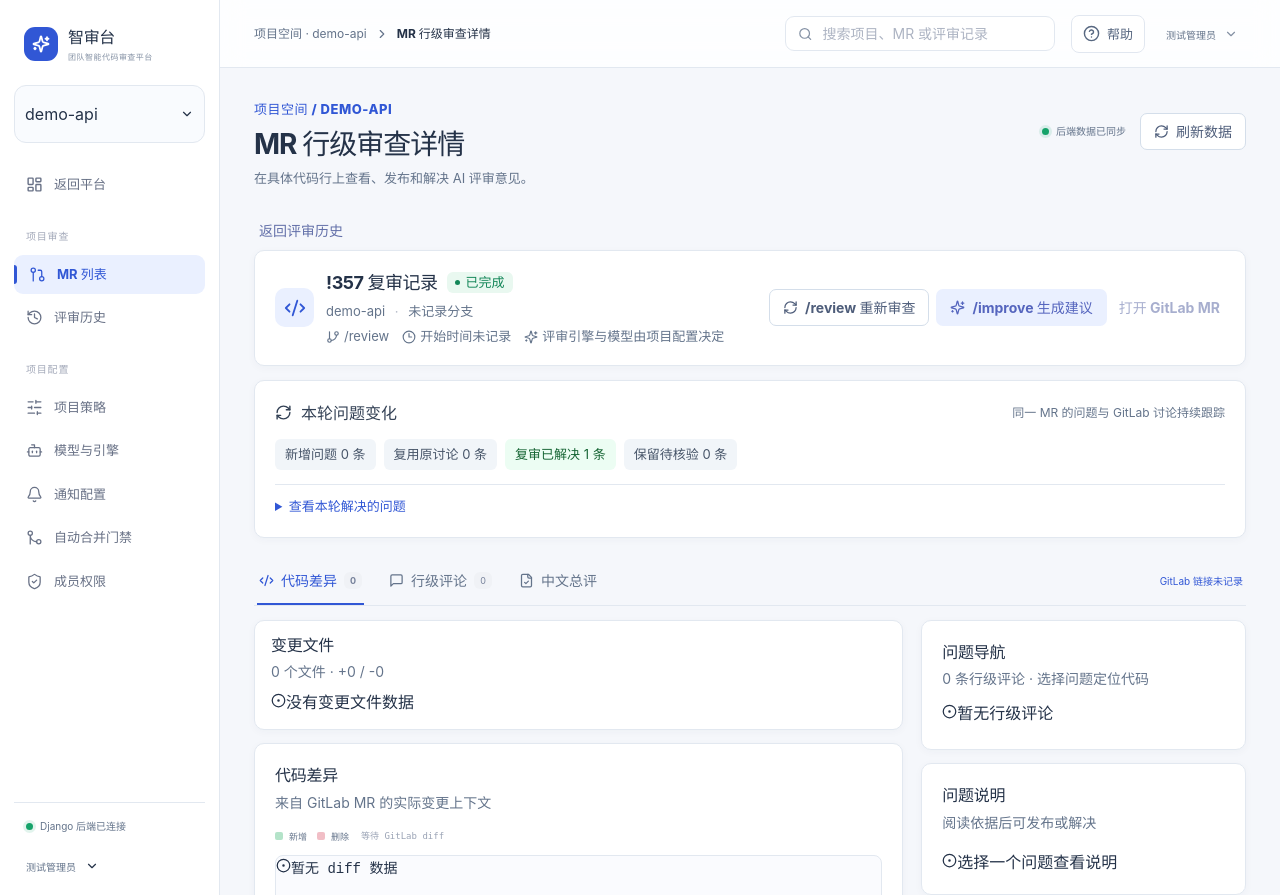
shows server-confirmed resolution and allows opening the resolved issue evidence
The width and height of the screenshot is (1280, 895).
expect the text "复审已解决 1 条" is shown: met, box x1=505 y1=439 x2=616 y2=470
Click the heading "查看本轮解决的问题" at (340, 507), box x1=275 y1=497 x2=406 y2=517
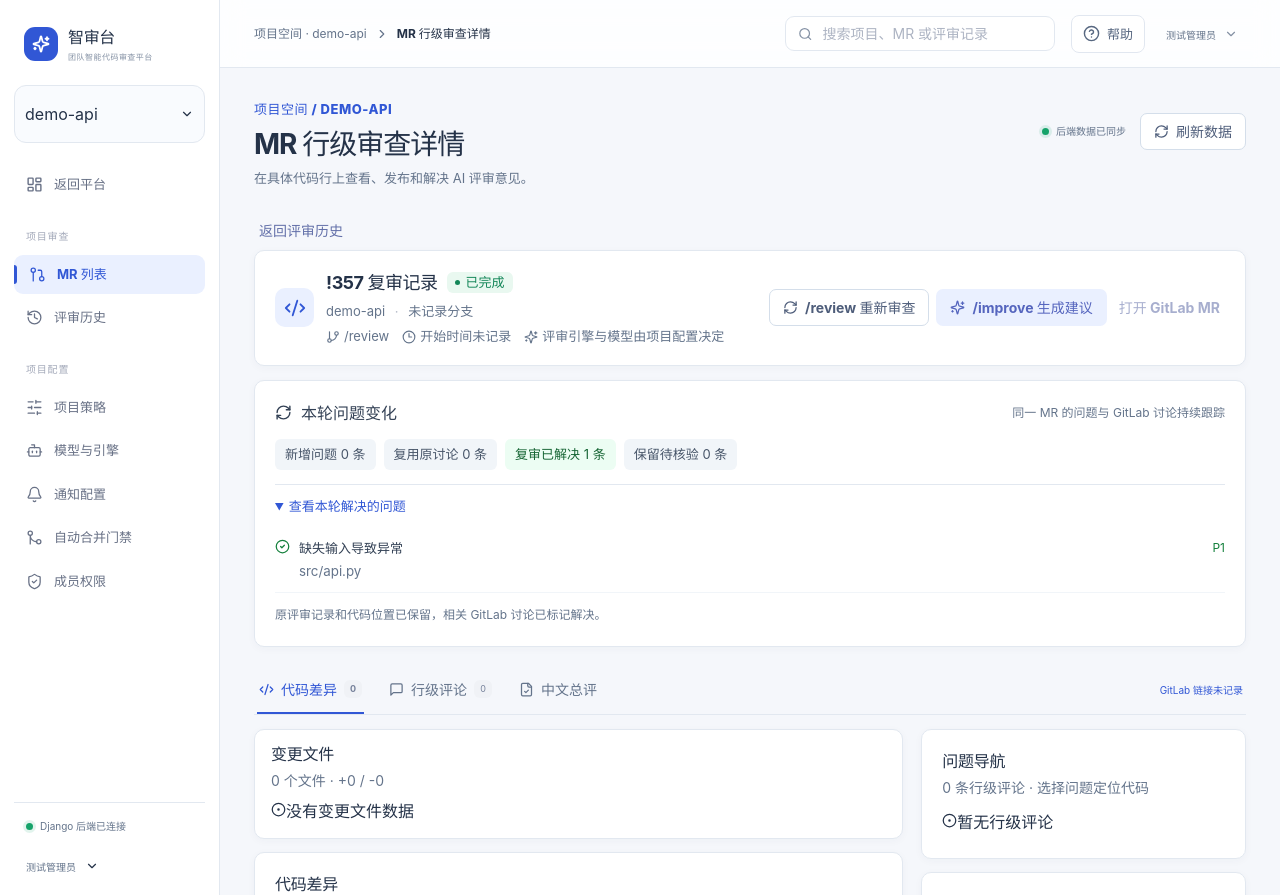
expect the text "缺失输入导致异常" is shown: met, box x1=299 y1=539 x2=403 y2=558
expect the text "src/api.py" is shown: met, box x1=299 y1=563 x2=361 y2=579
